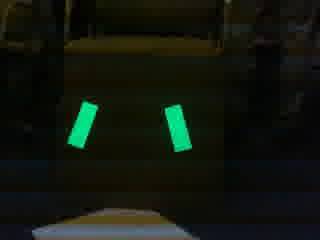target: (66, 100, 201, 156)
